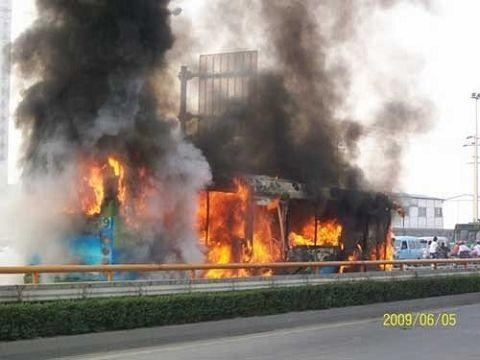fire: (193, 177, 352, 279), (80, 153, 167, 228), (289, 215, 343, 248), (368, 226, 397, 271)
